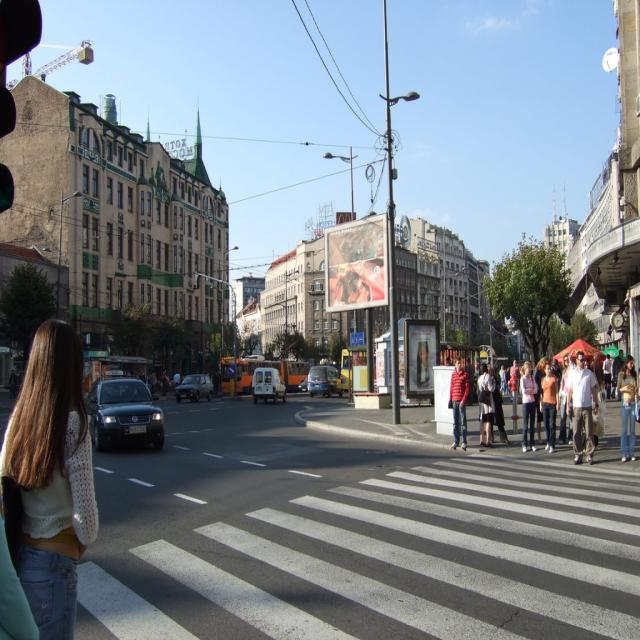car: (76, 373, 158, 459), (174, 362, 217, 402), (306, 358, 346, 400)
